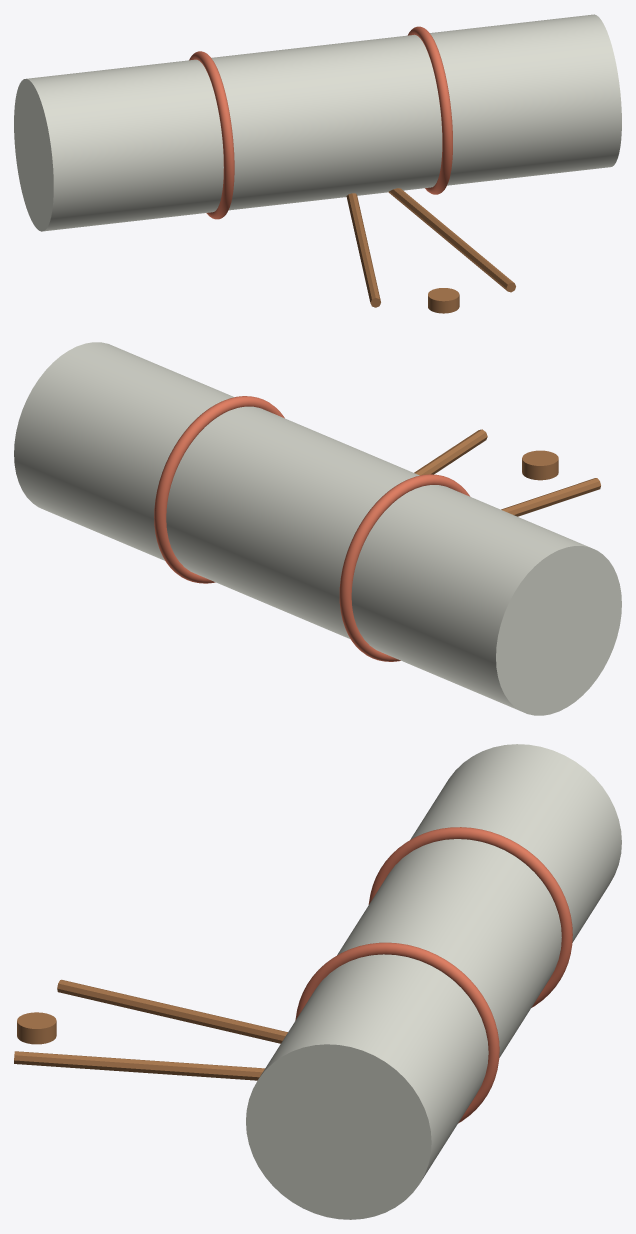
The model's file is sea-chart.glb.
3 renders of one model, top to bottom at view 1: azimuth 30°, elevation 25°; view 2: azimuth 150°, elevation 25°; view 3: azimuth 270°, elevation 25°, orthographic. The views are drawn at different scales.
Visible parts, largest first — view 1: titan.chart.roll, titan.chart.cord.-0.25, titan.chart.cord.0.25, titan.chart.divider.1, titan.chart.divider.-1, titan.chart.divider-hinge; view 2: titan.chart.roll, titan.chart.cord.-0.25, titan.chart.cord.0.25, titan.chart.divider.-1, titan.chart.divider-hinge, titan.chart.divider.1; view 3: titan.chart.roll, titan.chart.cord.-0.25, titan.chart.cord.0.25, titan.chart.divider.1, titan.chart.divider.-1, titan.chart.divider-hinge.
Part boxes in pixels (box(x1,y1,x2,y2)): titan.chart.roll: box(14, 14, 621, 231); titan.chart.cord.-0.25: box(189, 51, 234, 219); titan.chart.cord.0.25: box(407, 26, 452, 194); titan.chart.divider.1: box(388, 188, 515, 292); titan.chart.divider.-1: box(346, 193, 380, 307); titan.chart.divider-hinge: box(428, 288, 459, 313); titan.chart.roll: box(14, 342, 621, 715); titan.chart.cord.-0.25: box(339, 474, 470, 661); titan.chart.cord.0.25: box(154, 396, 284, 583); titan.chart.divider.-1: box(501, 478, 600, 516); titan.chart.divider-hinge: box(522, 450, 558, 480); titan.chart.divider.1: box(414, 429, 487, 475); titan.chart.roll: box(246, 744, 621, 1219); titan.chart.cord.-0.25: box(368, 827, 572, 1007); titan.chart.cord.0.25: box(295, 942, 499, 1123); titan.chart.divider.1: box(14, 1051, 264, 1080); titan.chart.divider.-1: box(57, 979, 287, 1043); titan.chart.divider-hinge: box(17, 1012, 56, 1044).
Bounding box in the file's own units: 1.34 × 0.374 × 1.07.
